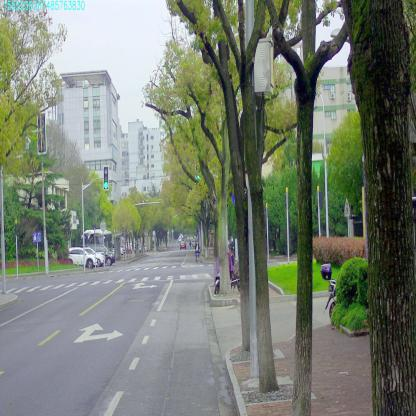traffic-light: (103, 166, 108, 190), (196, 174, 200, 183)
